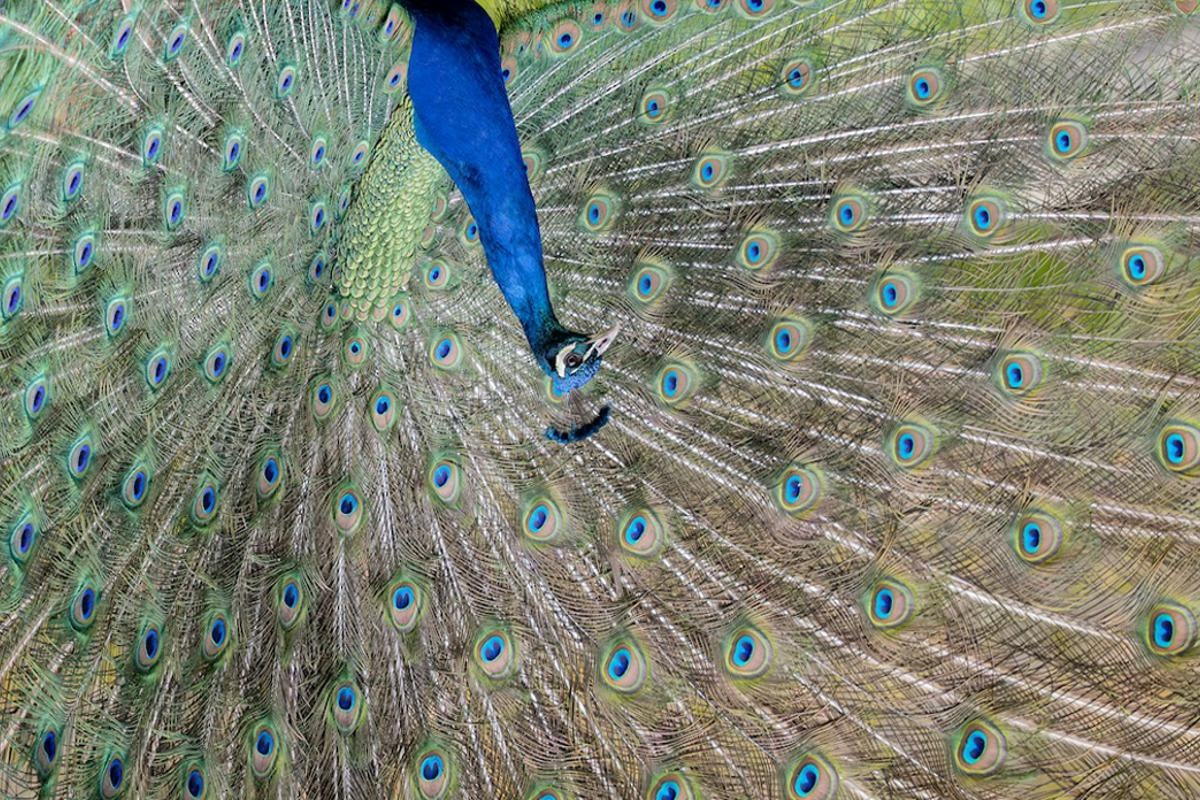peacock: (3, 5, 1193, 784)
